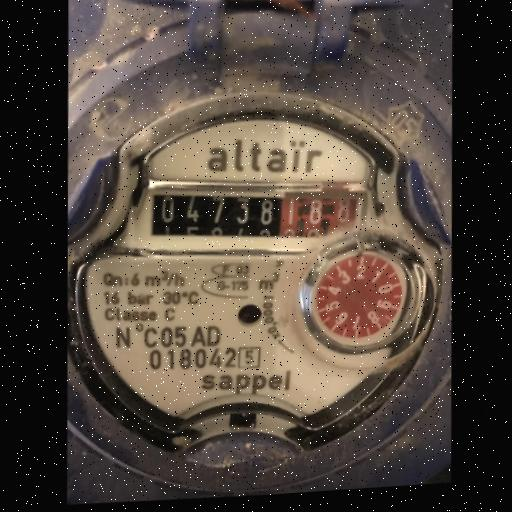0: (155, 192, 181, 237)
1: (279, 195, 301, 238)
3: (232, 195, 254, 238)
4: (183, 194, 205, 237)
7: (205, 195, 231, 238)
8: (328, 197, 358, 235), (303, 196, 327, 239), (257, 196, 277, 237)
border_water_meter_number: (112, 171, 370, 267)
